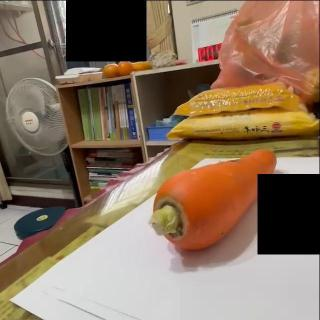carrot: (149, 148, 279, 250)
